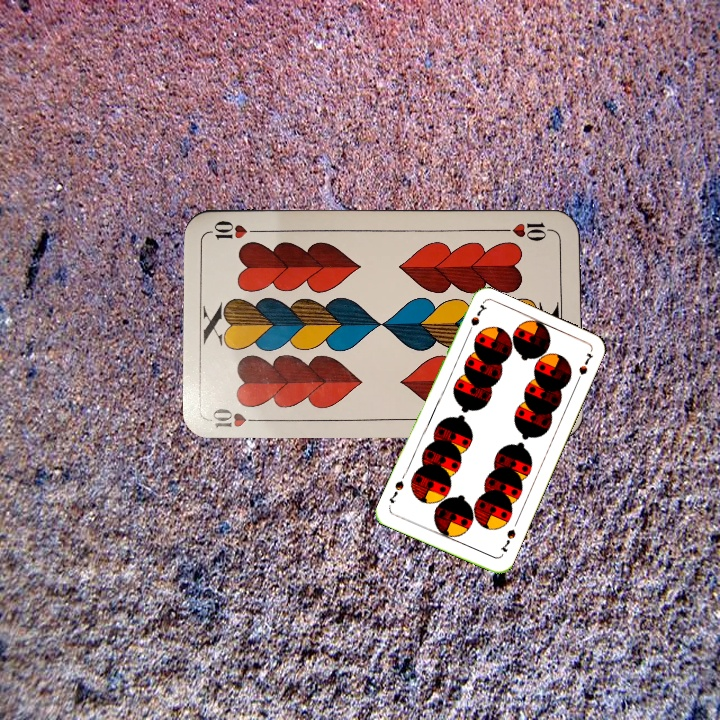H10: (498, 219, 557, 244), (207, 404, 266, 429)
S7: (463, 300, 488, 339), (496, 525, 518, 555)
